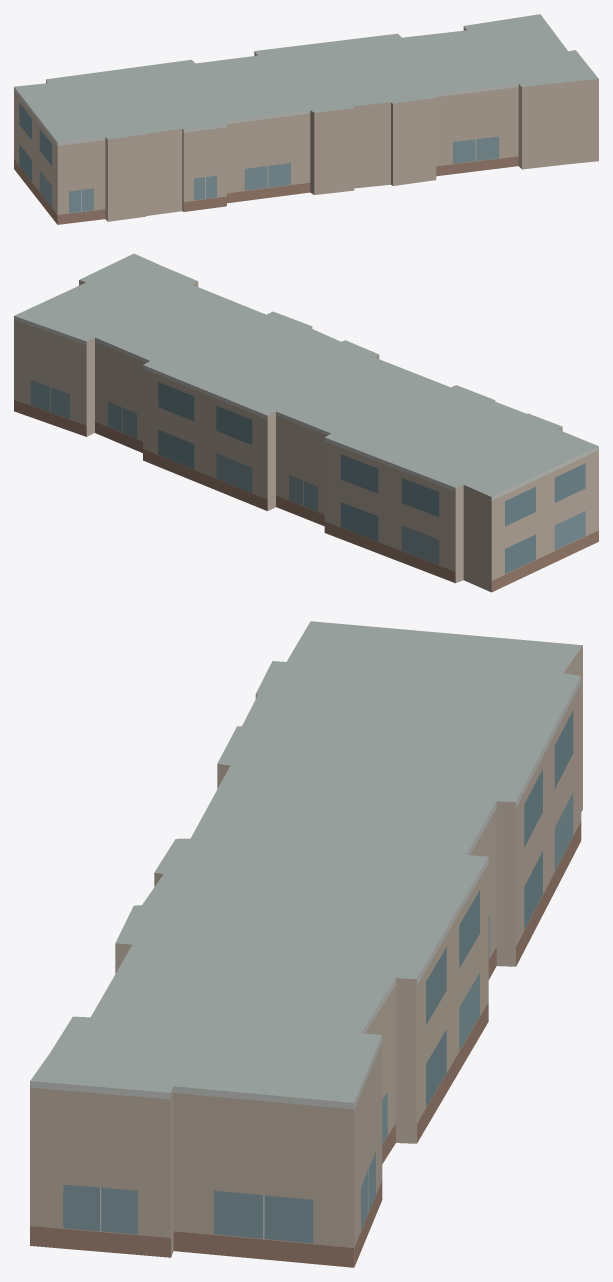
The model's file is survey-upis-32752698.glb.
3 views of the same model, one above another, from view 1: azimuth 30°, elevation 25°; view 2: azimuth 150°, elevation 25°; view 3: azimuth 270°, elevation 25° (orthographic). The views are drawn at different scales.
Visible parts, largest first — view 1: survey-upis-32752698.tmp; view 2: survey-upis-32752698.tmp; view 3: survey-upis-32752698.tmp.
Boxes of the visible parts, x1,y1,x2,y2 form: survey-upis-32752698.tmp: (14,14,598,224); survey-upis-32752698.tmp: (14,253,598,592); survey-upis-32752698.tmp: (30,621,582,1267).
Bounding box in the file's own units: 38.27 × 6.1 × 18.55.
